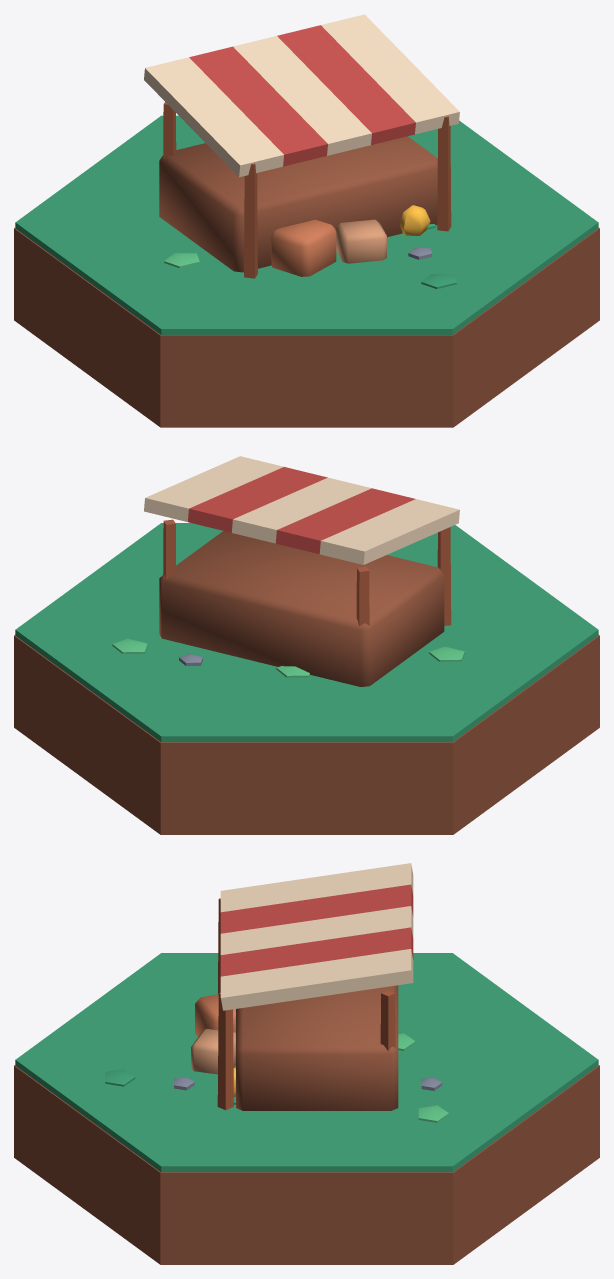
The model's file is building-market.glb.
3 renders of one model, top to bottom at view 1: azimuth 30°, elevation 25°; view 2: azimuth 150°, elevation 25°; view 3: azimuth 270°, elevation 25°, orthographic.
Parts seen in each view (by area): view 1: building_market; view 2: building_market; view 3: building_market.
Part boxes in pixels (x1,y1,x2,y2): building_market: [14, 14, 599, 427]; building_market: [14, 456, 599, 834]; building_market: [14, 863, 599, 1264].
Bounding box in the file's own units: 1 × 0.5241 × 1.15.
1 material, 1 textured.
